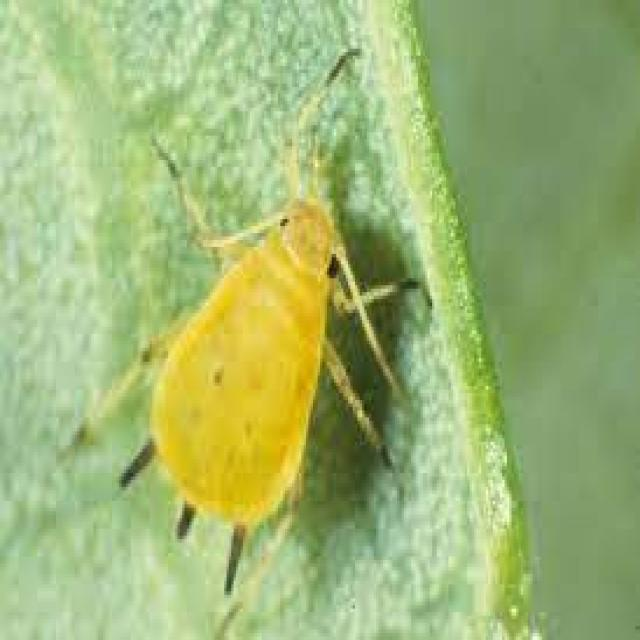aphid: (94, 43, 488, 599)
